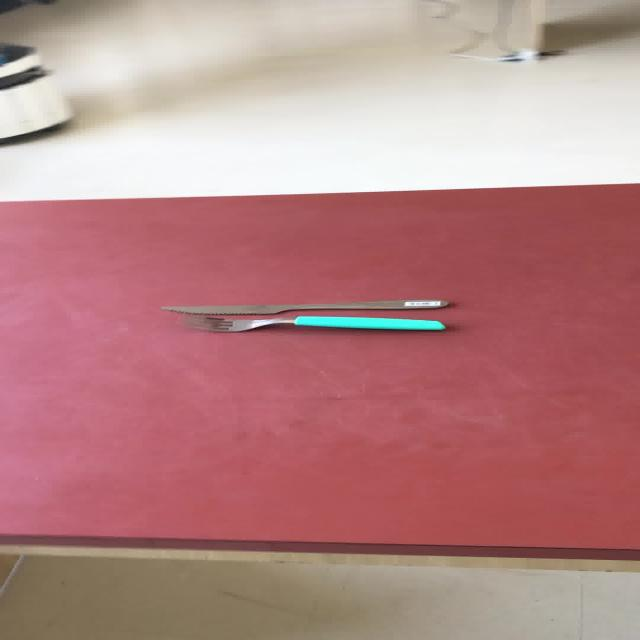fork: (177, 315, 445, 332)
knife fork: (159, 298, 449, 315)
